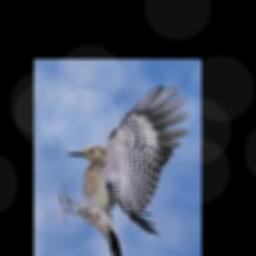Woodpecker: (57, 85, 189, 256)
